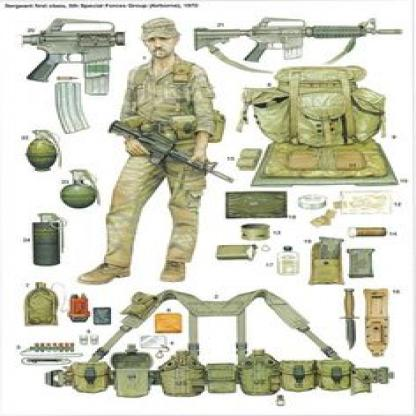Grenade: (58, 168, 104, 210), (23, 127, 65, 172), (159, 124, 180, 142), (136, 118, 157, 135)
Gun: (193, 16, 404, 63), (20, 15, 128, 98), (105, 118, 235, 185)
Knife: (341, 288, 360, 350)
